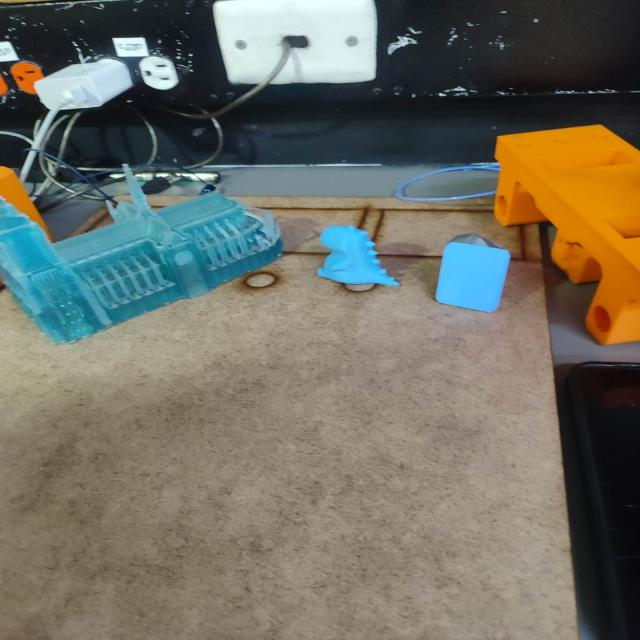DINO: (311, 220, 406, 295)
